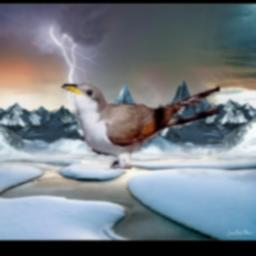Cuckoo: (62, 83, 220, 171)
